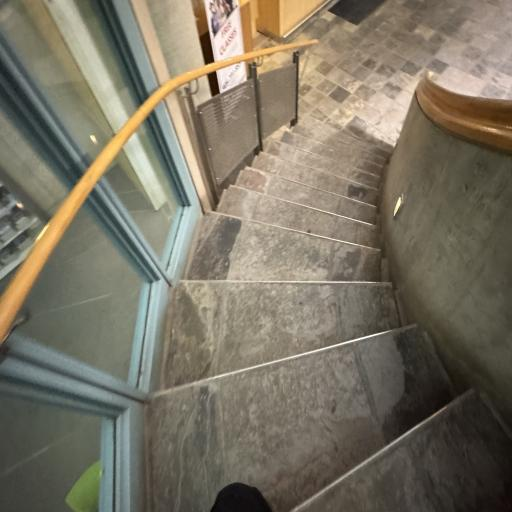Stairs: (146, 116, 511, 512), (148, 318, 454, 512), (293, 390, 512, 512), (164, 280, 399, 388), (186, 212, 380, 282), (252, 125, 378, 205), (217, 186, 378, 248), (236, 153, 376, 224), (268, 134, 380, 188), (281, 128, 385, 176), (299, 116, 390, 159)
